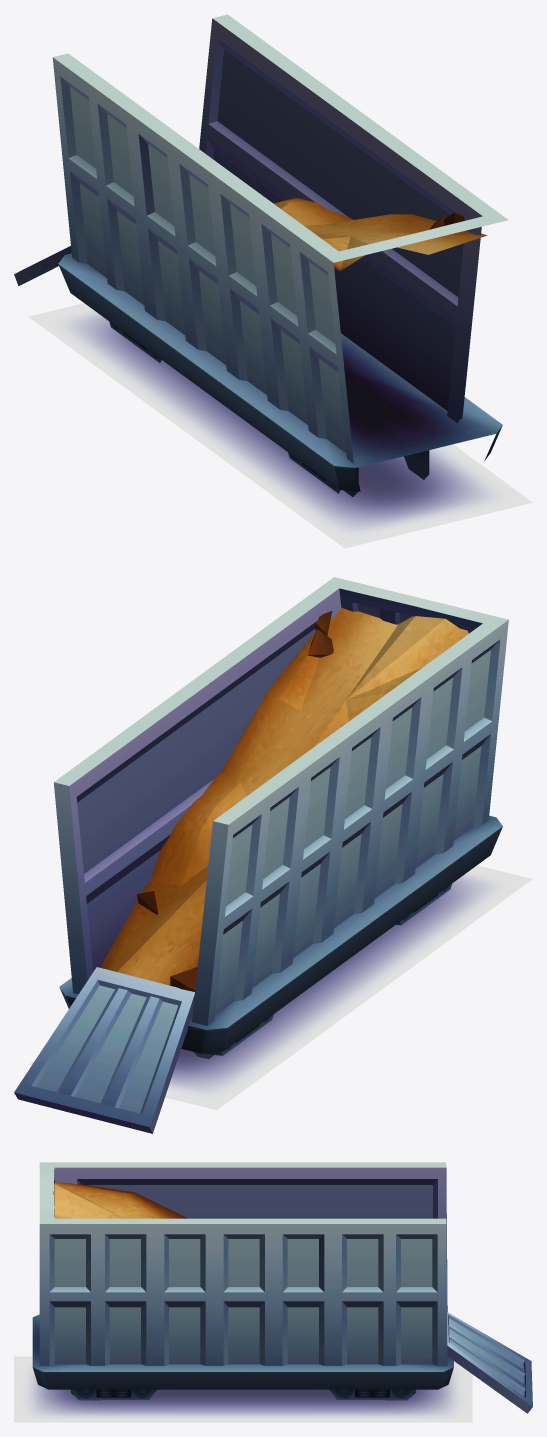
The model's file is 1.100_SanFrancisco_train_ramp.glb.
3 views of the same model, one above another, from view 1: azimuth 30°, elevation 25°; view 2: azimuth 150°, elevation 25°; view 3: azimuth 270°, elevation 25° (orthographic). The views are drawn at different scales.
Visible parts, largest first — view 1: 1.100_SanFrancisco_train_ramp, shadow; view 2: 1.100_SanFrancisco_train_ramp, shadow; view 3: 1.100_SanFrancisco_train_ramp, shadow.
Part boxes in pixels (x1,y1,x2,y2): 1.100_SanFrancisco_train_ramp: (14,14,508,496); shadow: (28,303,532,548); 1.100_SanFrancisco_train_ramp: (14,577,508,1133); shadow: (29,865,532,1110); 1.100_SanFrancisco_train_ramp: (32,1162,532,1413); shadow: (14,1356,472,1422).
Size of the model in its own units: 20.58 by 28.7 by 67.9.
Materials: 3 (3 with a texture image).
